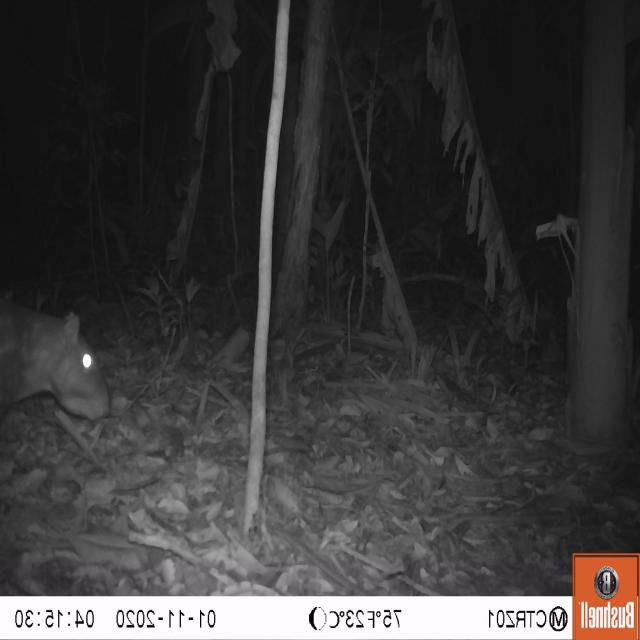Spotted Paca: (0, 285, 117, 470)
